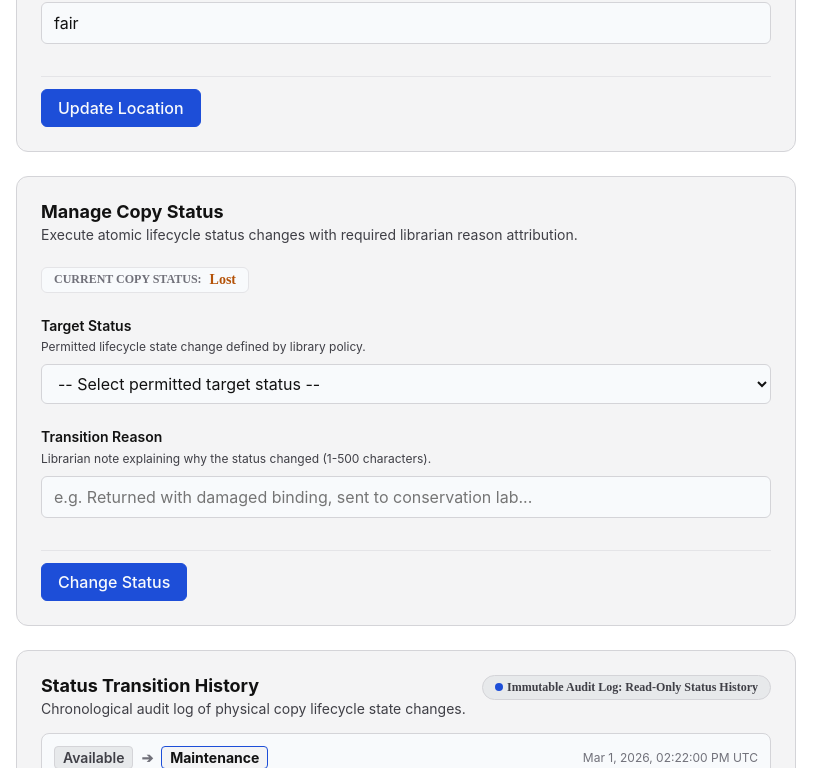
Test case: Inventory, Locations, Copies and Status-Management Workspace (FE-006) › Status Transition Failure & Read-Only History (Evidence Checkpoint) › displays comprehensible error without mutating local history on invalid server transition
(page scrolled)
Target status selection and mandatory reason input
Step 1. Select "Available" in the dropdown labelled "Target Status" → point(406, 384), box [41,364,771,404]
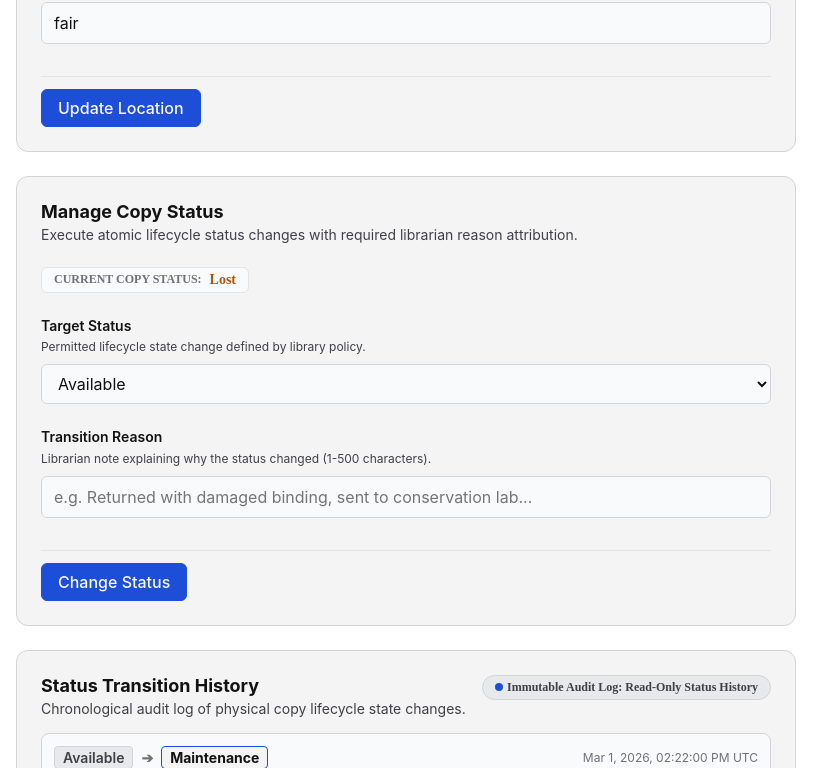
Step 2. Replace the text in the field labelled "Transition Reason" with "Patron located missing book on library shelf" → point(406, 496), box [41,476,771,518]
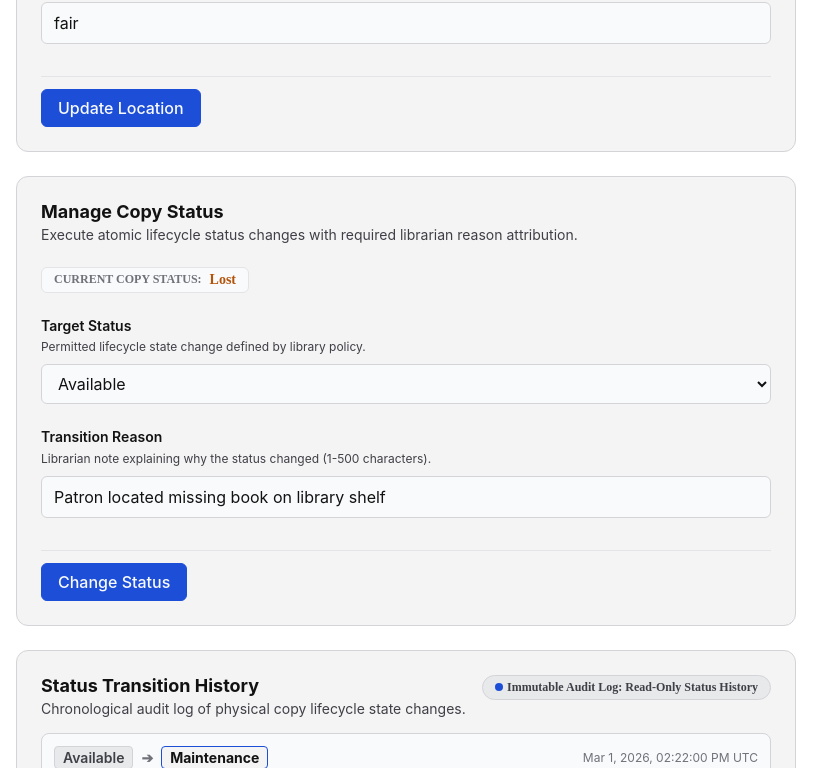
Submit status change
Step 3. Click the button "Change Status" → point(114, 582), box [41,562,187,600]
(page scrolled)
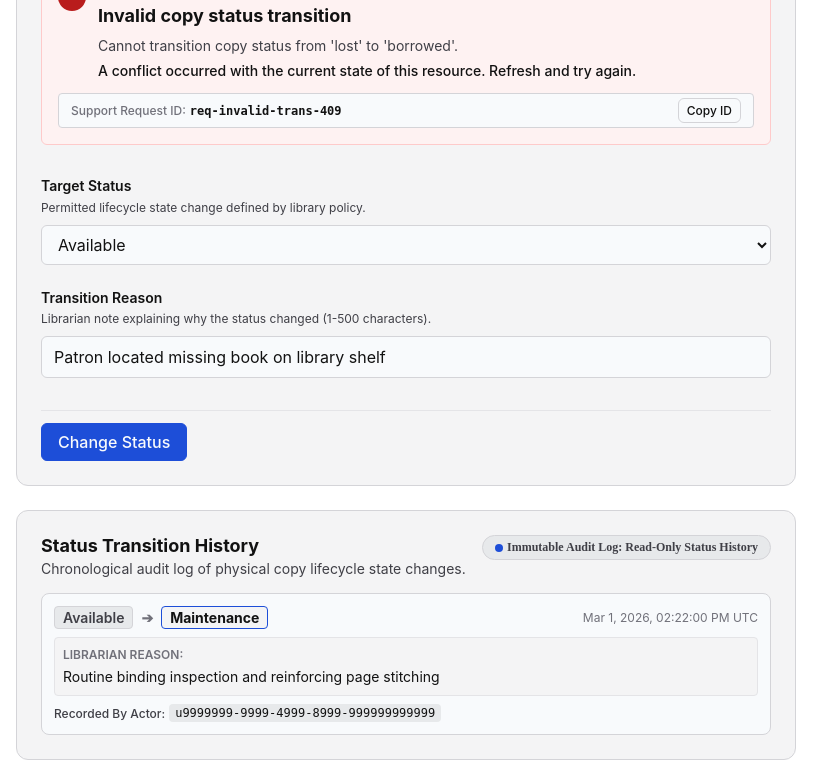
Expected: the heading "Invalid copy status transition" is shown, [98,4,352,26]
Expected: the text "Cannot transition copy status from 'lost' to 'borrowed'." is shown, [98,37,458,54]
Expected: the text "req-invalid-trans-409" is shown, [190,104,342,118]
